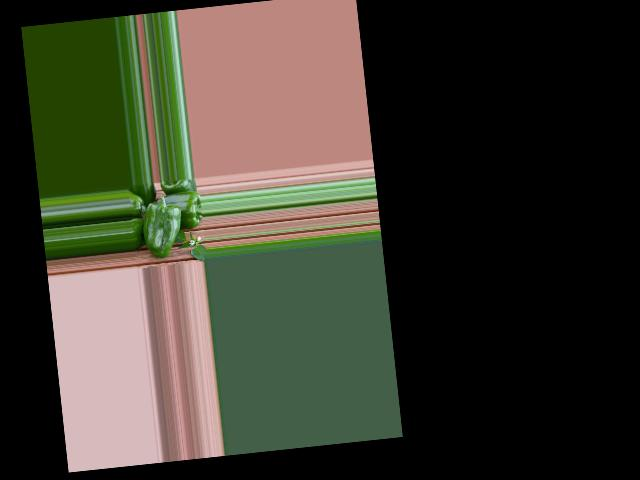bell_pepper: (127, 186, 147, 214)
